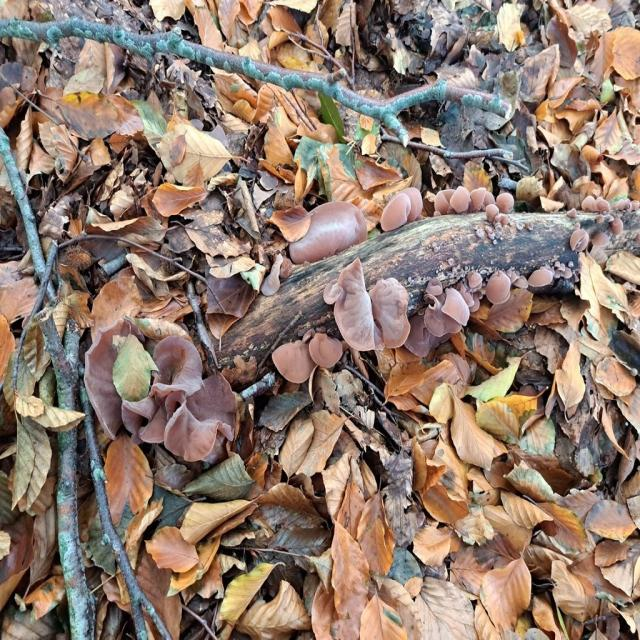Fase Muda: (384, 174, 532, 232), (411, 275, 532, 339), (549, 187, 640, 259), (264, 334, 346, 374)
Matang: (77, 316, 262, 462), (318, 268, 411, 348), (289, 206, 382, 264)
primordia: (553, 262, 580, 284), (594, 209, 608, 226), (566, 205, 578, 217)
